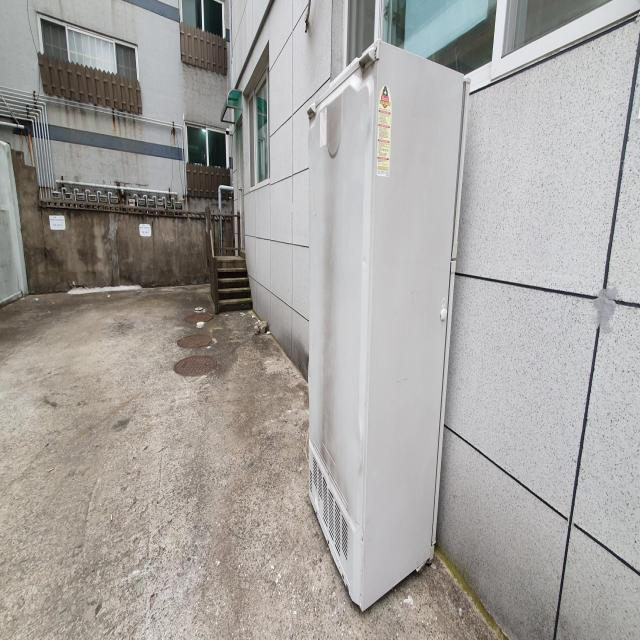refrigerator: (305, 38, 468, 617)
